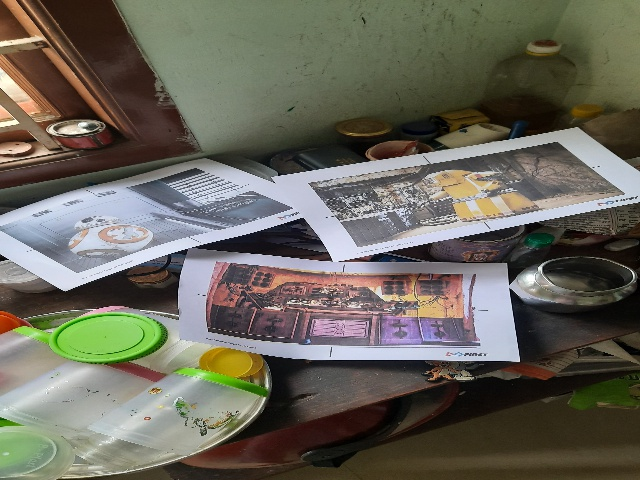bpt1: (5, 176, 307, 261)
rept1: (208, 257, 492, 365)
rpt2: (291, 140, 640, 227)
